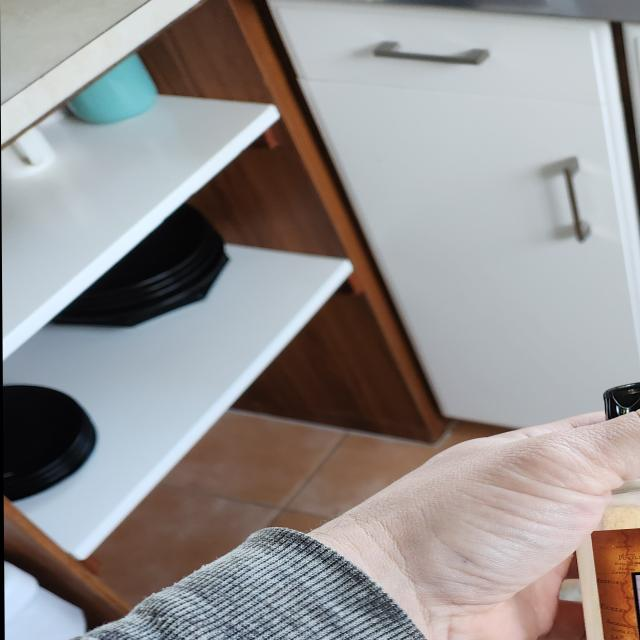garlic: (571, 374, 640, 640)
